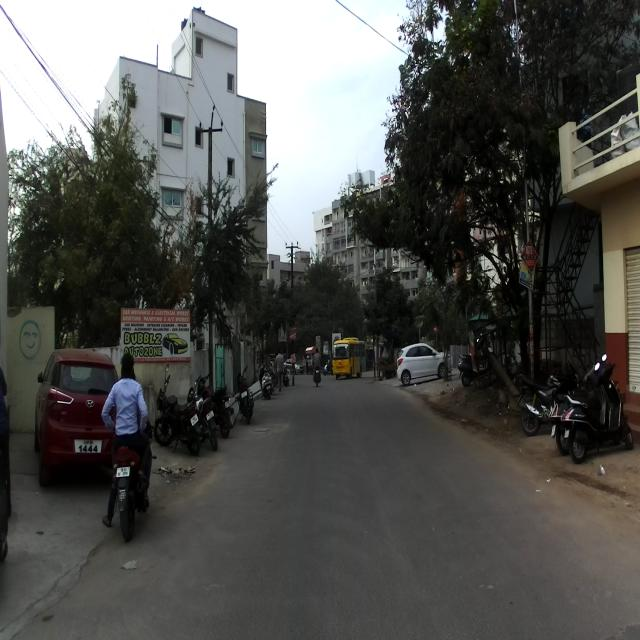car ahead at: (35, 342, 105, 478)
motorcycle ahead at: (106, 348, 157, 547), (564, 352, 632, 464), (158, 380, 201, 449)
